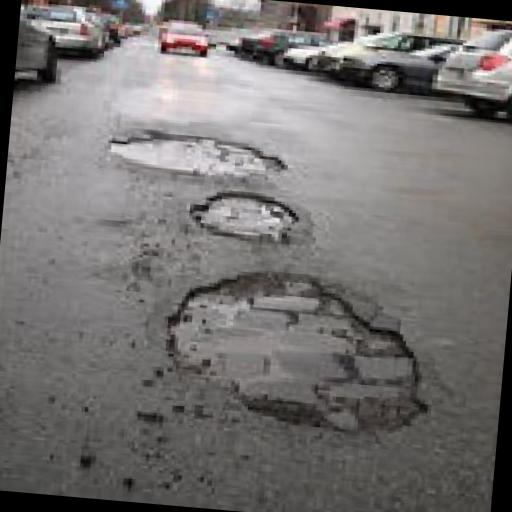pothole: (151, 256, 453, 450), (101, 124, 297, 184), (184, 188, 308, 248)
